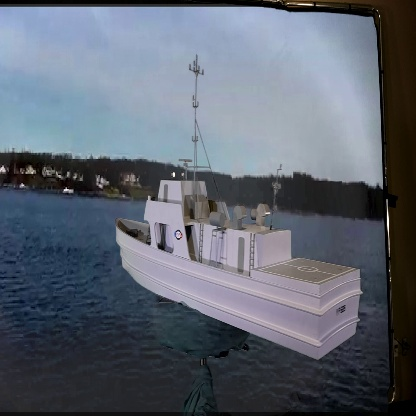YP689: (114, 55, 363, 365)
